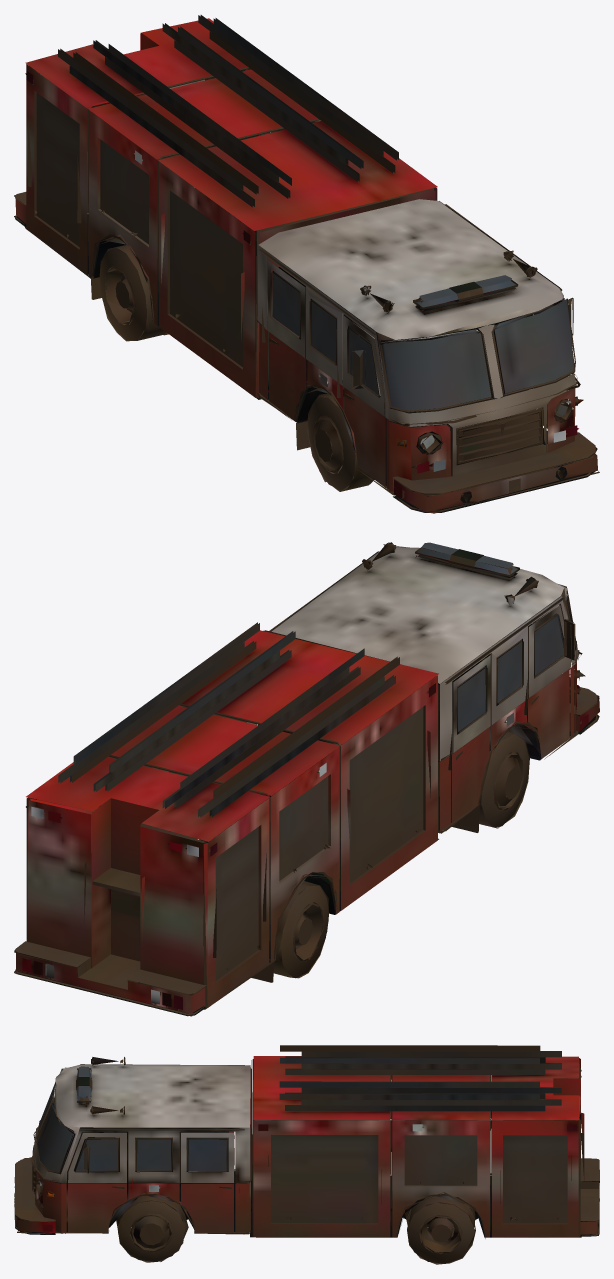
The model's file is pack-fire-truck-L3.glb.
3 views of the same model, one above another, from view 1: azimuth 30°, elevation 25°; view 2: azimuth 150°, elevation 25°; view 3: azimuth 270°, elevation 25° (orthographic). The views are drawn at different scales.
Visible parts, largest first — view 1: body; view 2: body; view 3: body.
Boxes of the visible parts, x1,y1,x2,y2 form: body: [14, 15, 599, 513]; body: [14, 542, 599, 1016]; body: [14, 1045, 599, 1264].
Size of the model in its own units: 2.58 by 2.56 by 8.34.
1 material, 1 textured.
